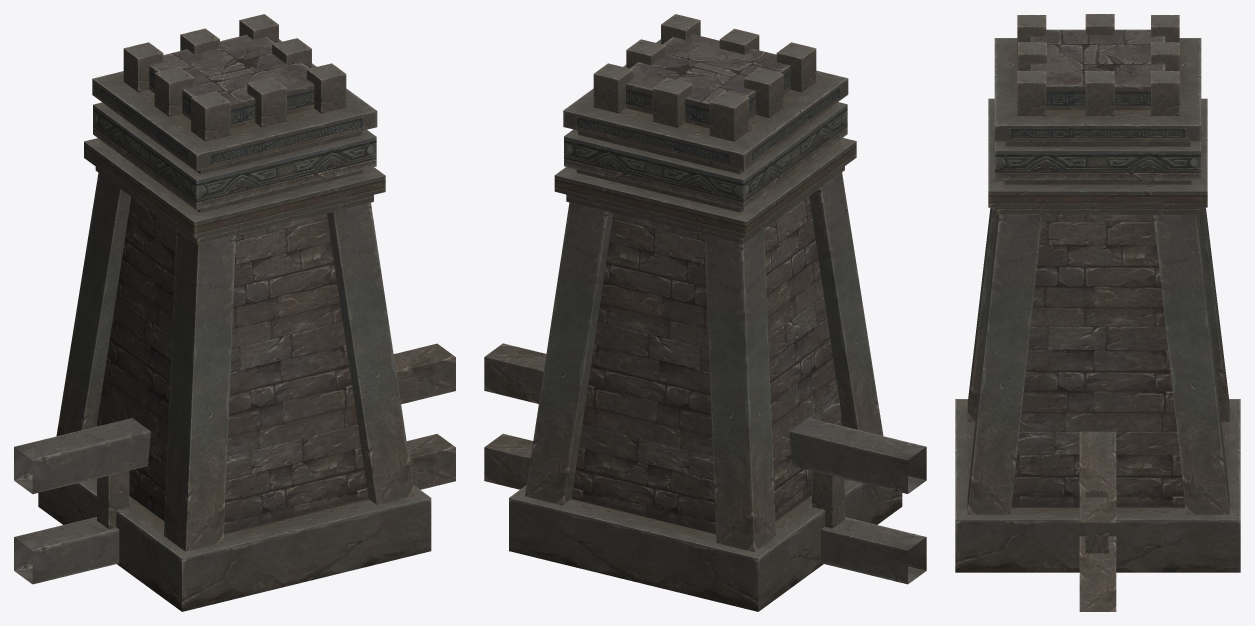
The model's file is que_lou_tai_001.FBX.
3 views of the same model, side by side, from view 1: azimuth 30°, elevation 25°; view 2: azimuth 150°, elevation 25°; view 3: azimuth 270°, elevation 25° (orthographic).
Parts seen in each view (by area): view 1: que_lou_tai_001_a01, que_lou_tai_001_a02; view 2: que_lou_tai_001_a01, que_lou_tai_001_a02; view 3: que_lou_tai_001_a01, que_lou_tai_001_a02.
Part boxes in pixels (x1,y1,x2,y2): que_lou_tai_001_a01: (38, 14, 431, 611); que_lou_tai_001_a02: (14, 343, 455, 584); que_lou_tai_001_a01: (509, 14, 902, 611); que_lou_tai_001_a02: (484, 343, 926, 584); que_lou_tai_001_a01: (955, 14, 1240, 572); que_lou_tai_001_a02: (1079, 431, 1116, 611).
Bounding box in the file's own units: 889 × 938 × 523.
1 material, 1 textured.
